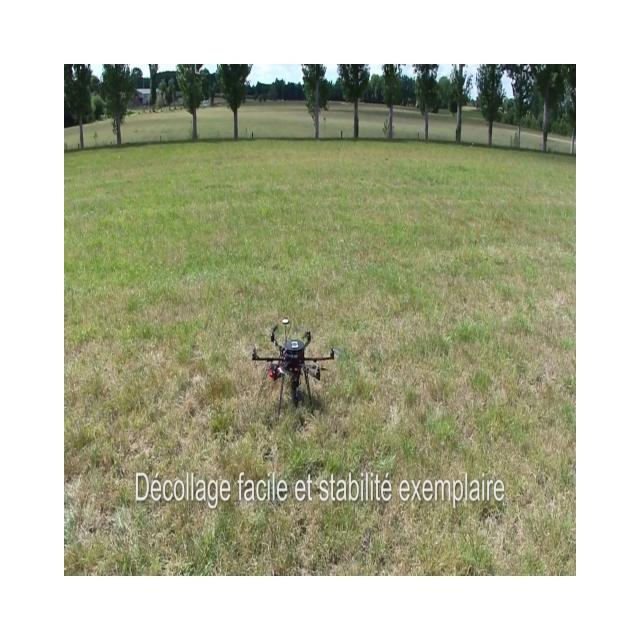drone: (251, 317, 339, 419)
